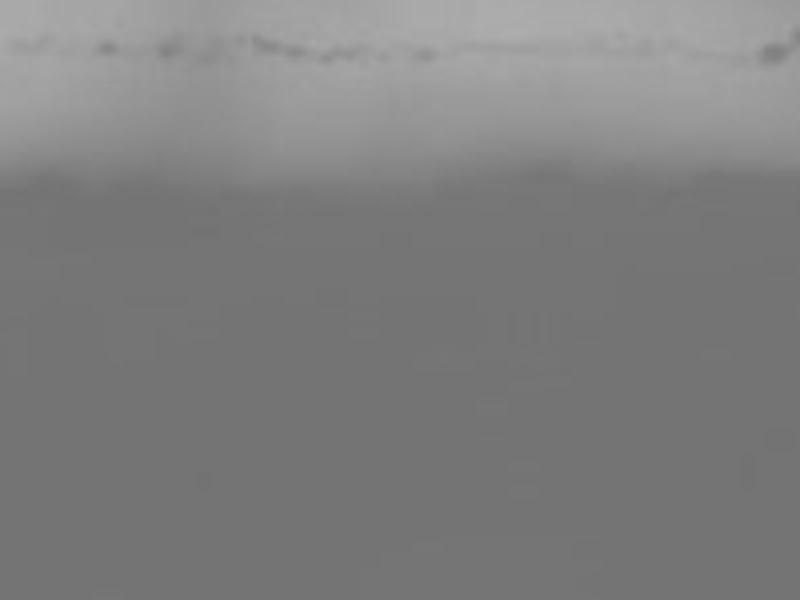defect: (251, 32, 312, 62), (323, 38, 380, 66), (754, 34, 794, 68), (687, 40, 738, 64), (155, 31, 185, 61), (409, 44, 446, 64), (99, 38, 125, 59), (375, 44, 391, 71)
